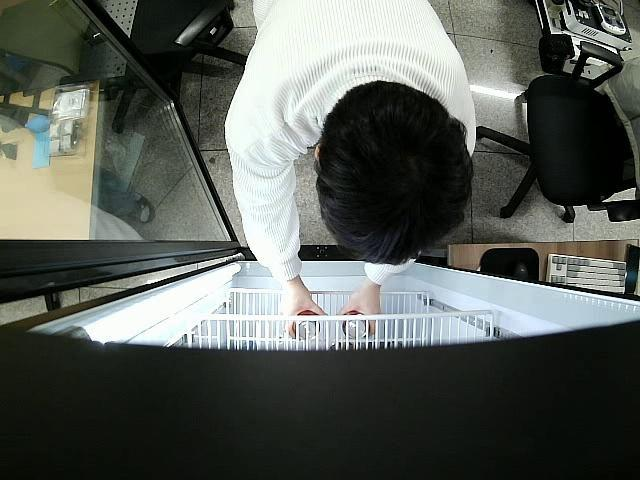11_cocaColaZero: (338, 308, 372, 340), (292, 310, 322, 341)
